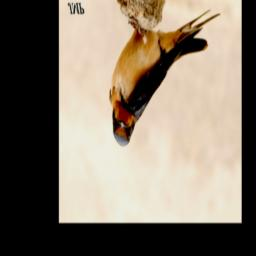Swallow: (108, 0, 221, 148)
